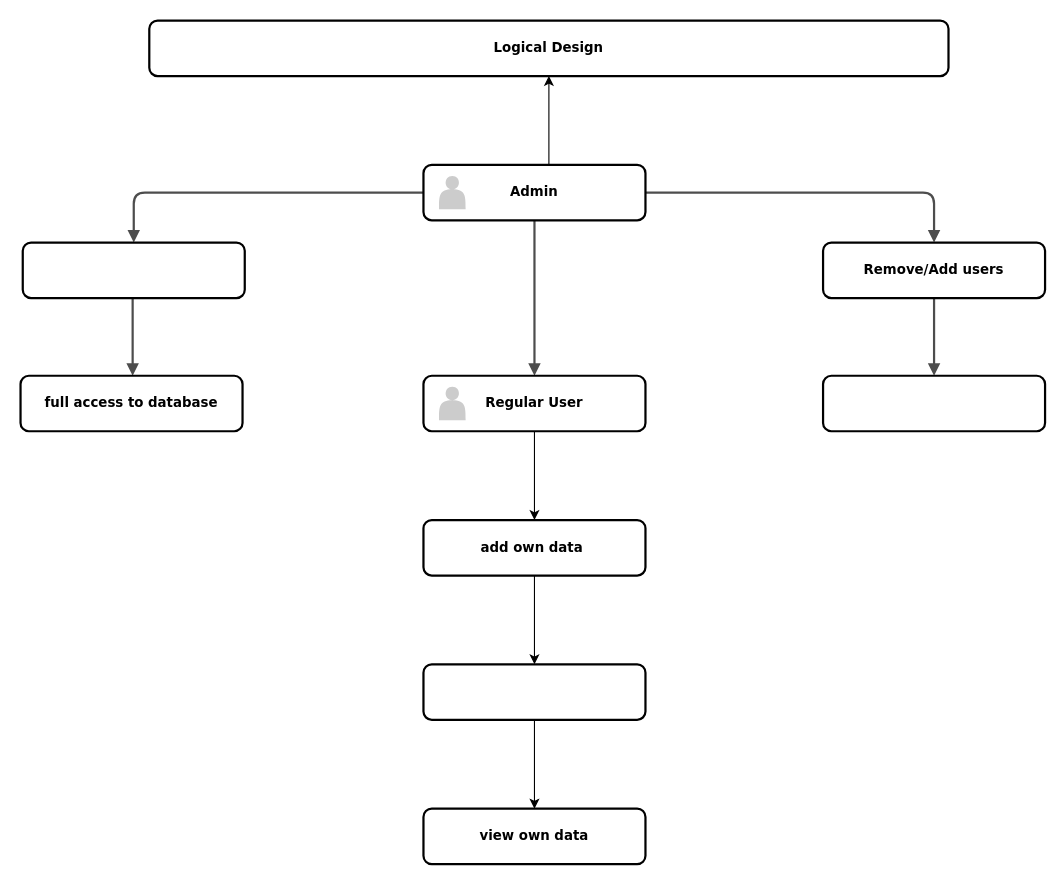
This 1064x884 diagram has some shape labels left out. The shapes that lost their labels are listed below. From the top down, each one's box as (x1, y1, x2, y2) in pixels, then its label:
(21, 241, 245, 299): Modify own profile
(821, 374, 1046, 432): Review all actions on database
(422, 663, 646, 720): Update details as login / passwords
